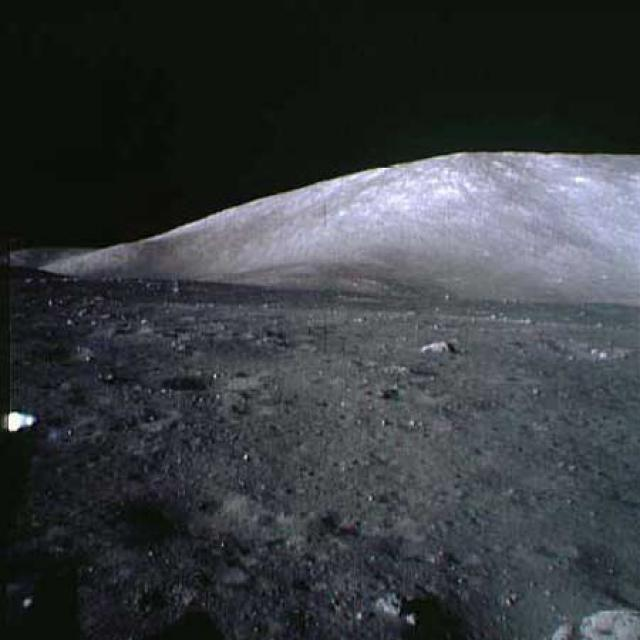crater: (161, 369, 265, 395), (546, 336, 628, 361)
rock: (542, 608, 638, 638), (368, 586, 413, 620), (419, 338, 453, 356)
